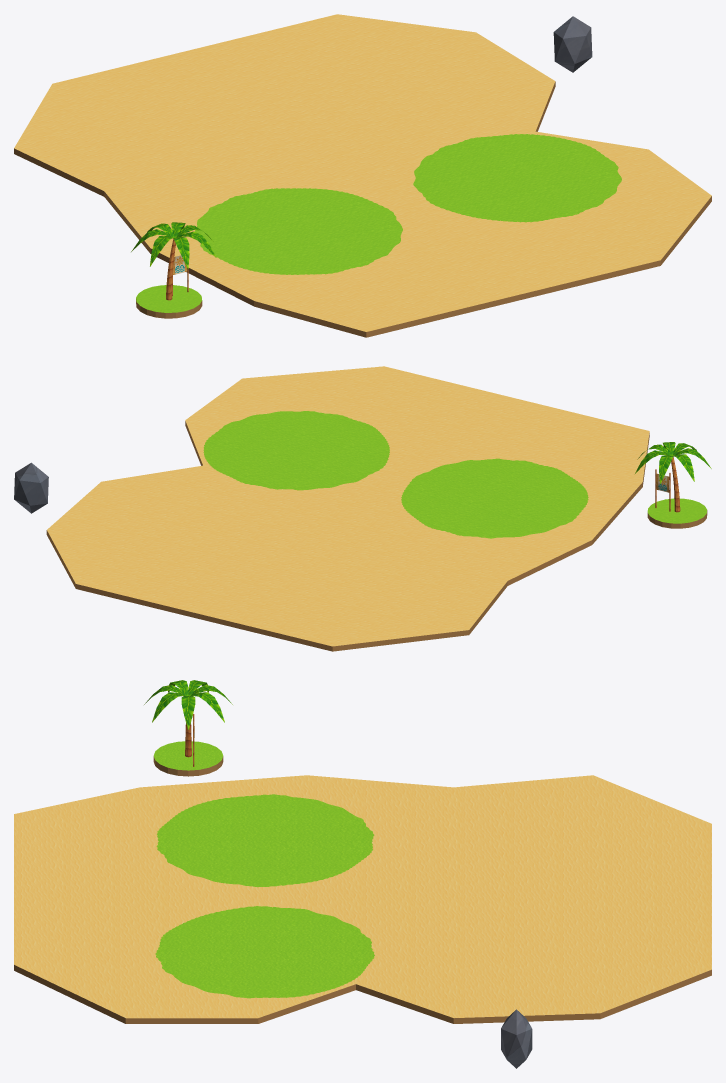
Rendered from surface-11-DLO04wJq.glb.
3 views of the same model, one above another, from view 1: azimuth 30°, elevation 25°; view 2: azimuth 150°, elevation 25°; view 3: azimuth 270°, elevation 25° (orthographic). The views are drawn at different scales.
Visible parts, largest first — view 1: HI_Surface_11, FLC_Regions_11, HI_SceneryIslet_0, HI_Palm, HI_BasaltOutcrop; view 2: HI_Surface_11, FLC_Regions_11, HI_SceneryIslet_0, HI_Palm, HI_BasaltOutcrop; view 3: HI_Surface_11, FLC_Regions_11, HI_SceneryIslet_0, HI_Palm, HI_BasaltOutcrop.
Boxes of the visible parts, x1=… form: HI_Surface_11: x1=14, y1=14, x2=711, y2=337; FLC_Regions_11: x1=194, y1=134, x2=621, y2=274; HI_SceneryIslet_0: x1=136, y1=285, x2=202, y2=318; HI_Palm: x1=131, y1=222, x2=216, y2=300; HI_BasaltOutcrop: x1=553, y1=16, x2=592, y2=72; HI_Surface_11: x1=46, y1=366, x2=649, y2=651; FLC_Regions_11: x1=203, y1=411, x2=588, y2=538; HI_SceneryIslet_0: x1=647, y1=498, x2=707, y2=528; HI_Palm: x1=635, y1=442, x2=711, y2=512; HI_BasaltOutcrop: x1=14, y1=462, x2=48, y2=513; HI_Surface_11: x1=14, y1=775, x2=711, y2=1023; FLC_Regions_11: x1=155, y1=794, x2=374, y2=998; HI_SceneryIslet_0: x1=153, y1=741, x2=223, y2=776; HI_Palm: x1=144, y1=680, x2=232, y2=757; HI_BasaltOutcrop: x1=501, y1=1009, x2=532, y2=1068.
Bounding box in the file's own units: 35.81 × 5.15 × 34.
7 materials, 6 textured.
